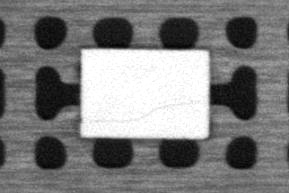DIE_CRACK: (92, 100, 194, 126)
